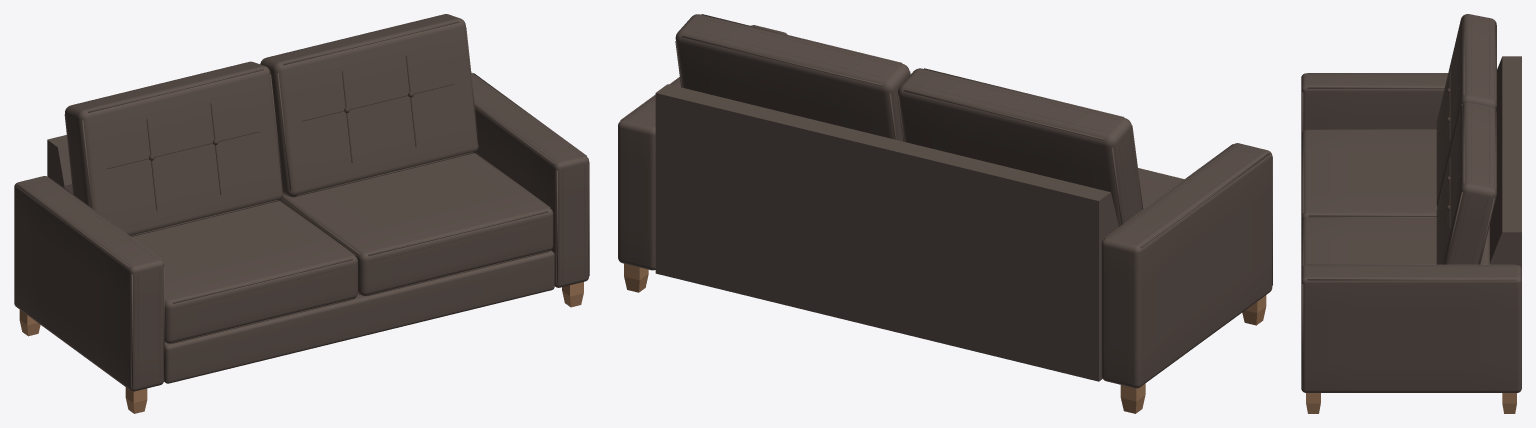
Rendered from benza_200x90.glb.
3 views of the same model, side by side, from view 1: azimuth 30°, elevation 25°; view 2: azimuth 150°, elevation 25°; view 3: azimuth 270°, elevation 25° (orthographic). The views are drawn at different scales.
Parts seen in each view (by area): view 1: p1, p2, p0; view 2: p1, p0, p2; view 3: p1, p2, p0.
Boxes of the visible parts, left/top/right/bottom form: p1: left=14, top=14, right=589, bottom=391; p2: left=22, top=16, right=585, bottom=385; p0: left=19, top=282, right=583, bottom=413; p1: left=618, top=14, right=1272, bottom=388; p0: left=624, top=263, right=1266, bottom=413; p2: left=627, top=18, right=1261, bottom=244; p1: left=1301, top=14, right=1521, bottom=392; p2: left=1310, top=16, right=1514, bottom=276; p0: left=1306, top=393, right=1516, bottom=413.
Bounding box in the file's own units: 2 × 0.9642 × 0.9006.
3 materials, 2 textured.
